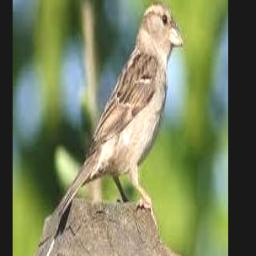Sparrow: (59, 3, 183, 222)
